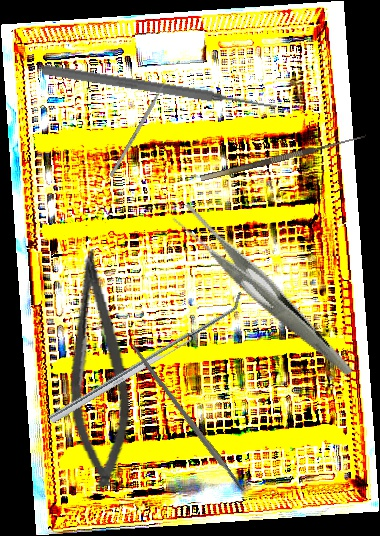Dressing Forceps: (169, 172, 354, 413)
Hook Surgical: (197, 125, 368, 182)
Micro Scissor: (51, 246, 140, 490)
Pusher: (41, 62, 279, 115), (109, 74, 171, 178)
Scalpel Handle: (128, 342, 248, 496)
Spatula Surgical: (43, 291, 250, 424)
